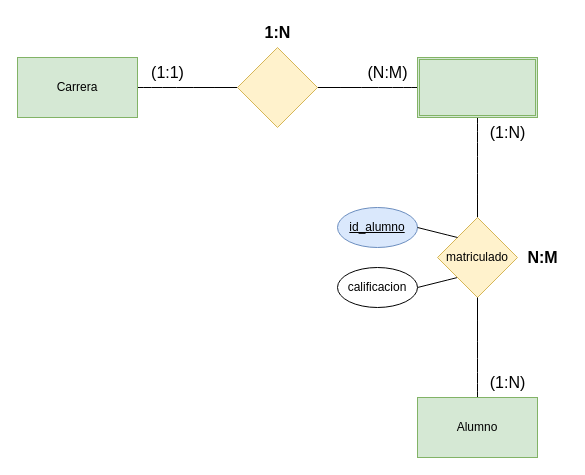
The diagram is 585 pixels wide and 475 high, and some of its shapes have lost their labels. Each missing label, with the centre of its shape:
"Asignatura" belongs at point 477,87.
"tiene" belongs at point 277,87.
